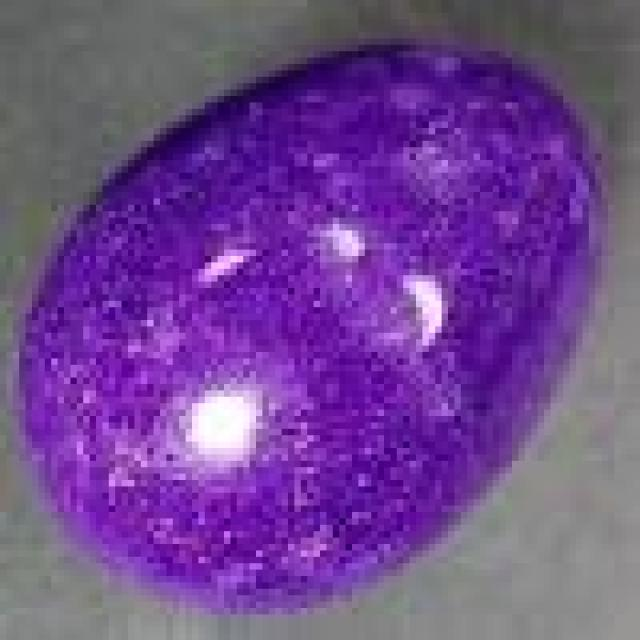Metamorphic: (19, 32, 614, 621)
